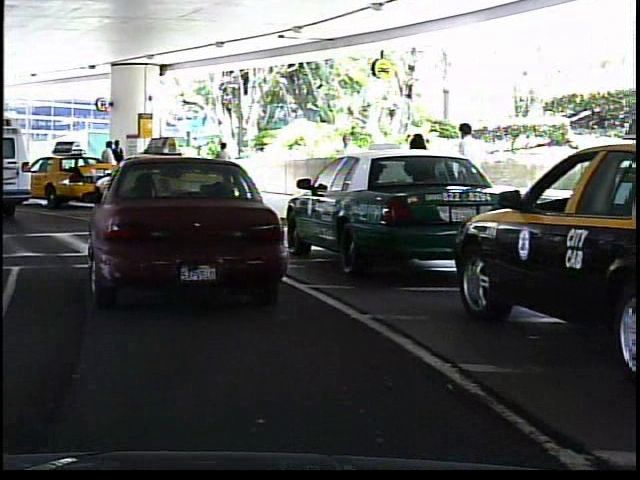person: (447, 116, 495, 231), (401, 124, 439, 231), (331, 126, 360, 205), (211, 137, 235, 190), (98, 140, 116, 193), (111, 136, 127, 193)
